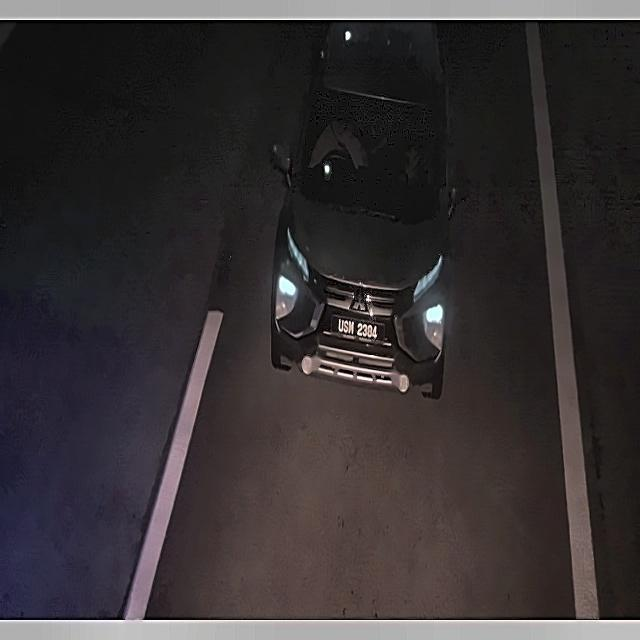car: (326, 310, 388, 350)
